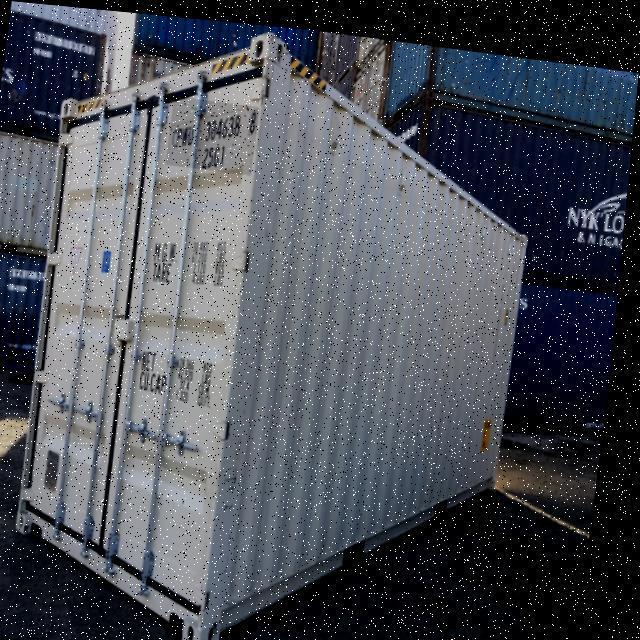container_number_h: (168, 92, 261, 170)
